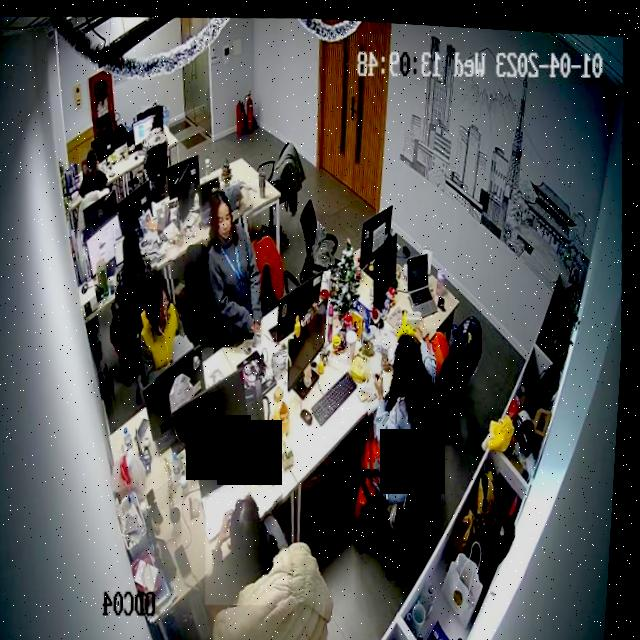person: (361, 320, 448, 480), (197, 179, 273, 348), (206, 485, 300, 605), (138, 274, 203, 382), (115, 225, 164, 305), (140, 102, 173, 157), (79, 146, 113, 197)
